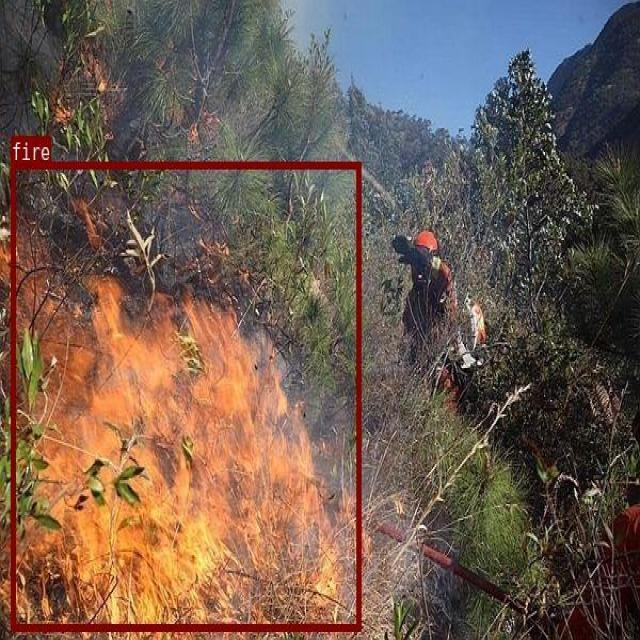fire: (10, 160, 360, 630)
